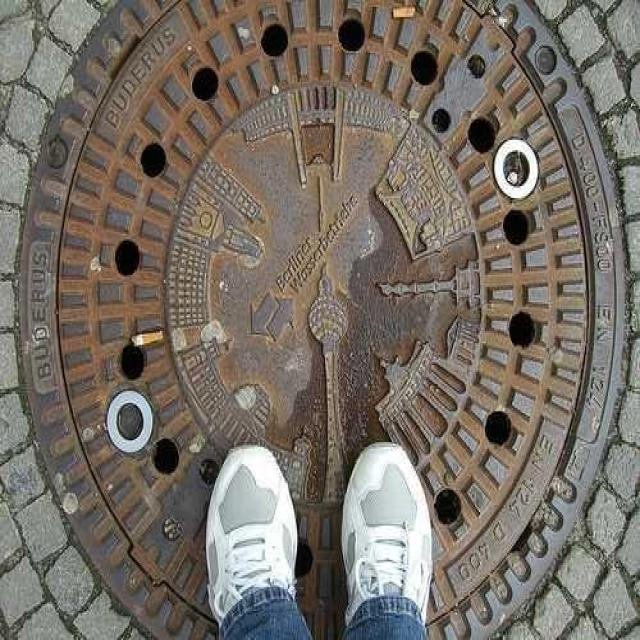manhole: (22, 0, 625, 638)
